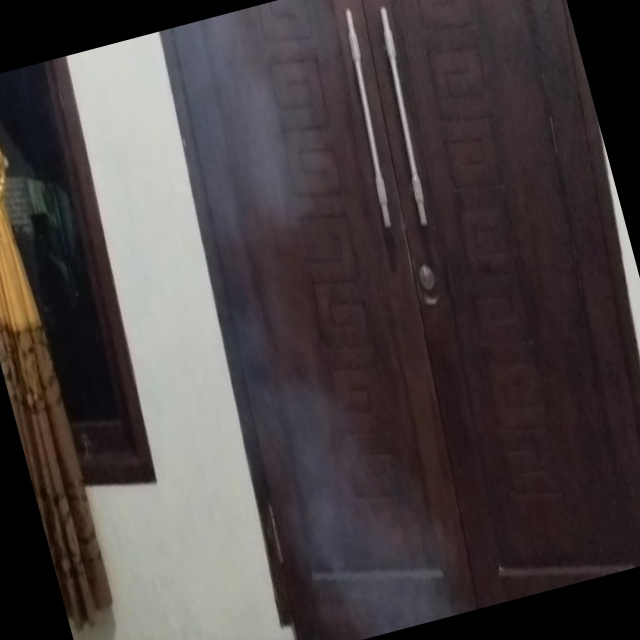smoke: (127, 30, 440, 640)
